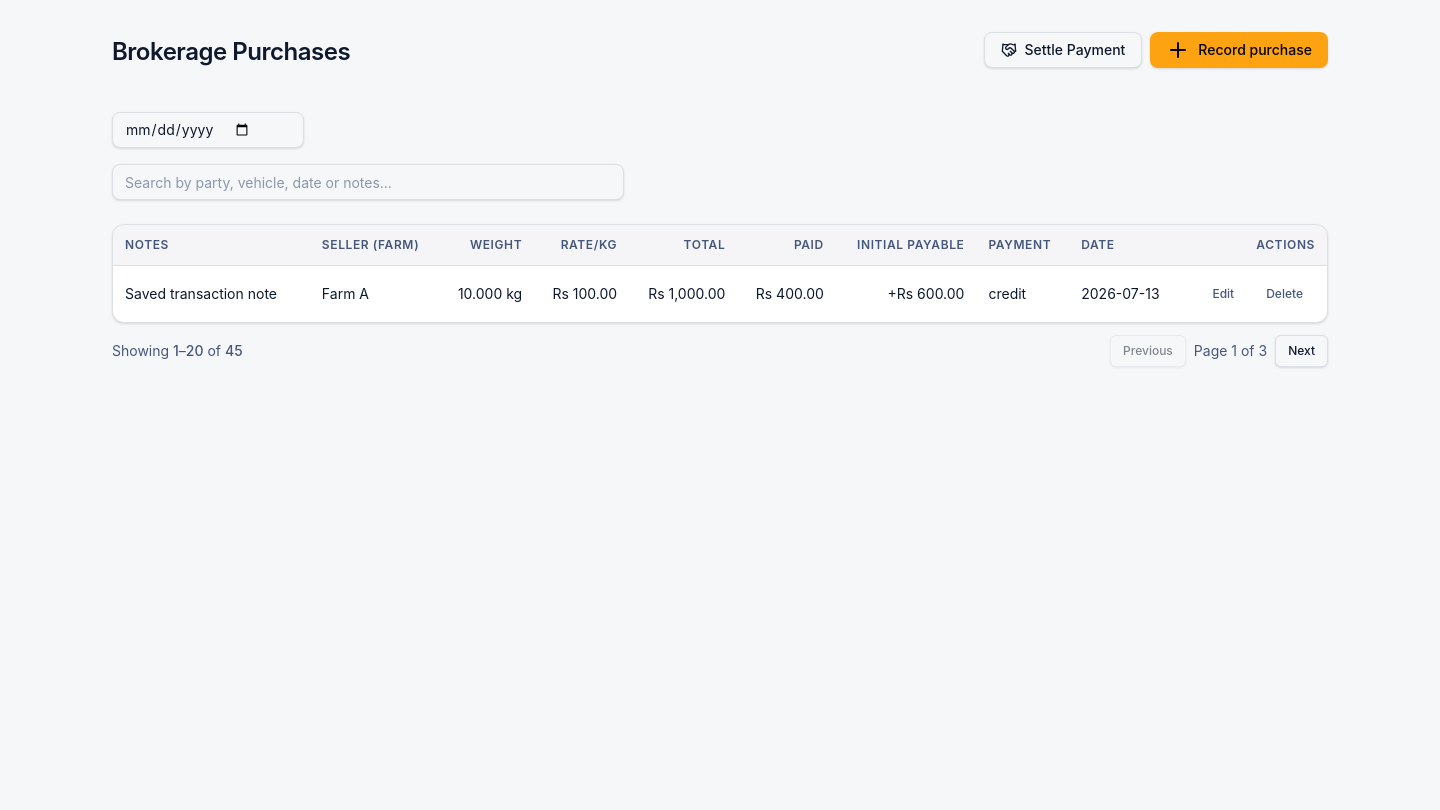
Test: Brokerage transaction balances › allows a broker party in a Brokerage purchase
Expected: the text "Saved transaction note" is shown, left=125, top=284, right=298, bottom=304
Click the button "Record purchase" at (1239, 50), box left=1150, top=32, right=1328, bottom=68
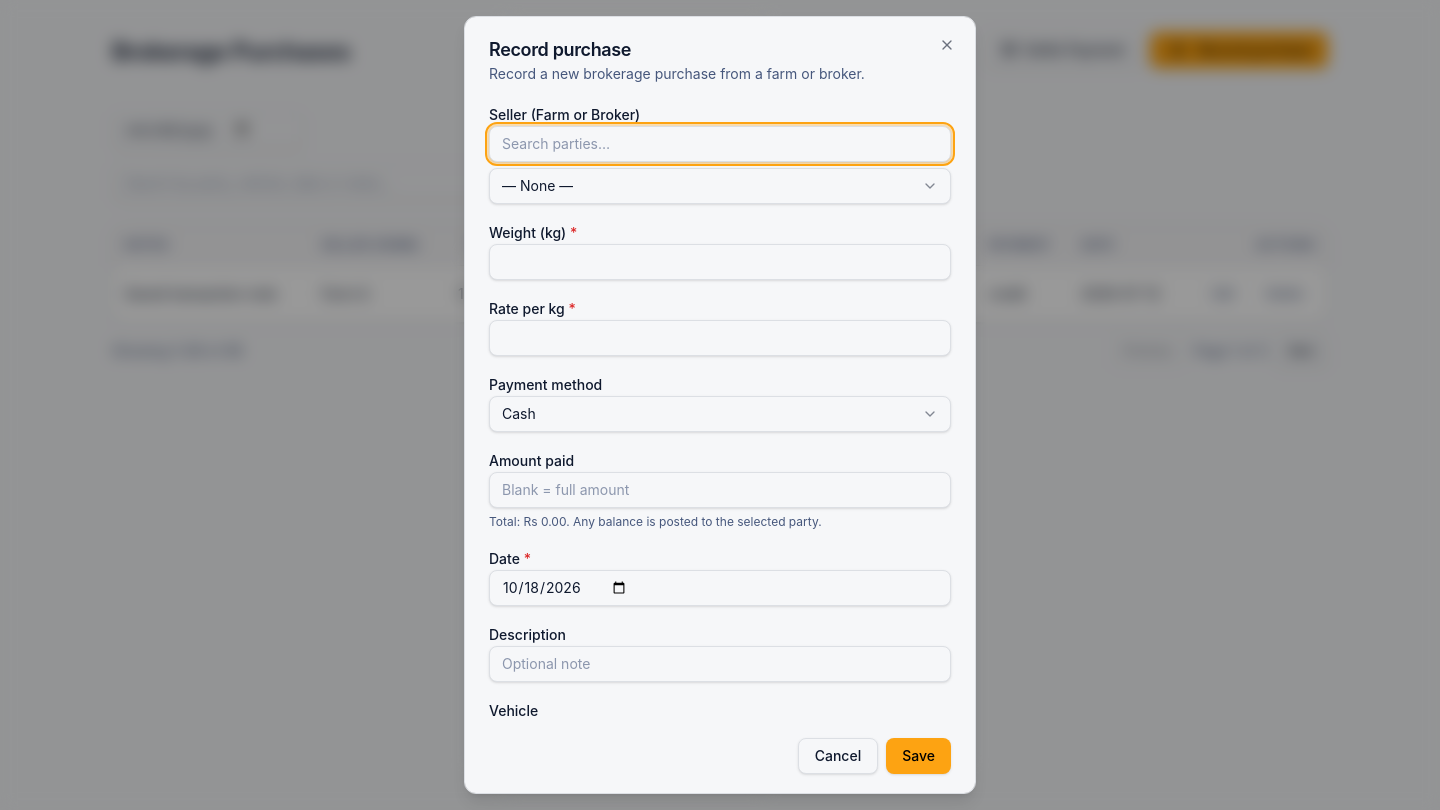
Click the dropdown named "Seller (Farm or Broker)" at (538, 185), box left=489, top=168, right=951, bottom=204
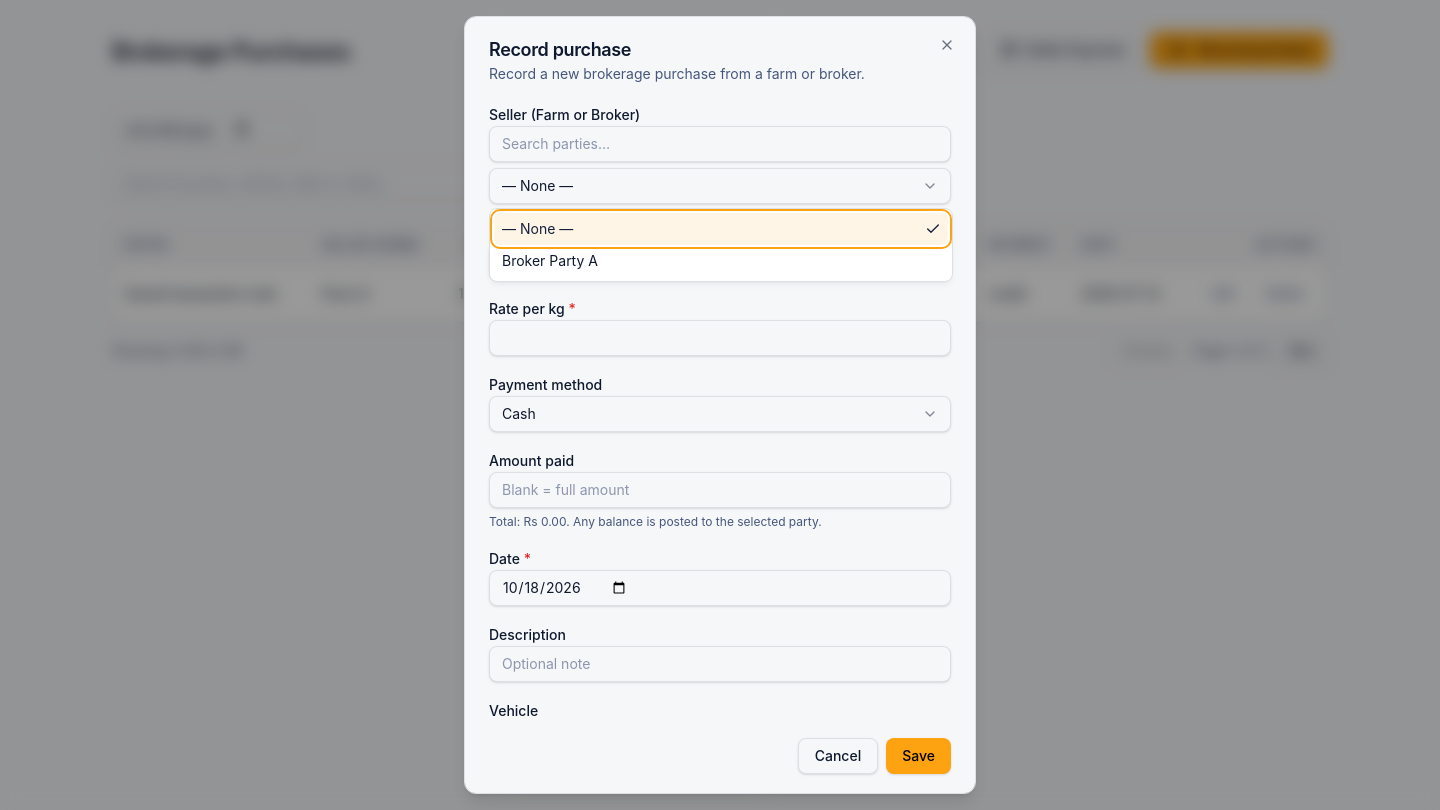
Result: the option "Broker Party A" is shown at left=502, top=252, right=598, bottom=269
